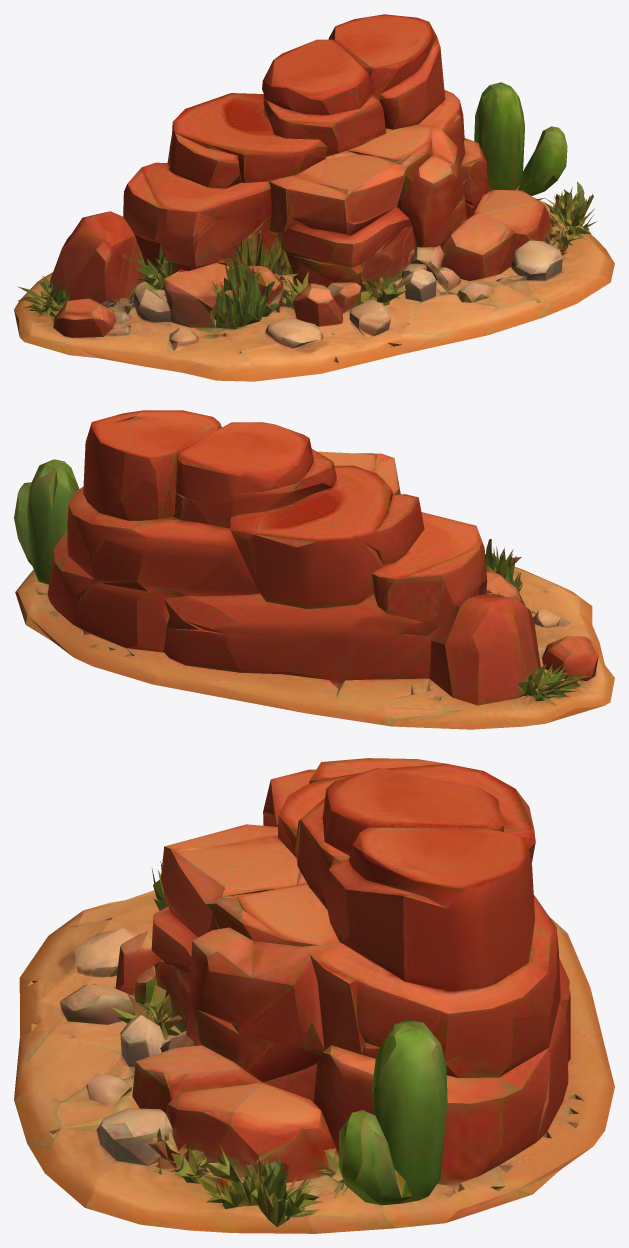
Rendered from west_rock_formation_b.glb.
3 views of the same model, one above another, from view 1: azimuth 30°, elevation 25°; view 2: azimuth 150°, elevation 25°; view 3: azimuth 270°, elevation 25° (orthographic). The views are drawn at different scales.
Visible parts, largest first — view 1: mesh_node; view 2: mesh_node; view 3: mesh_node.
Boxes of the visible parts, bbox=[...] form: mesh_node: bbox=[14, 14, 614, 381]; mesh_node: bbox=[14, 410, 614, 729]; mesh_node: bbox=[14, 758, 614, 1233].
Bounding box in the file's own units: 1.9 × 0.6102 × 1.19.
Materials: 1 (1 with a texture image).
